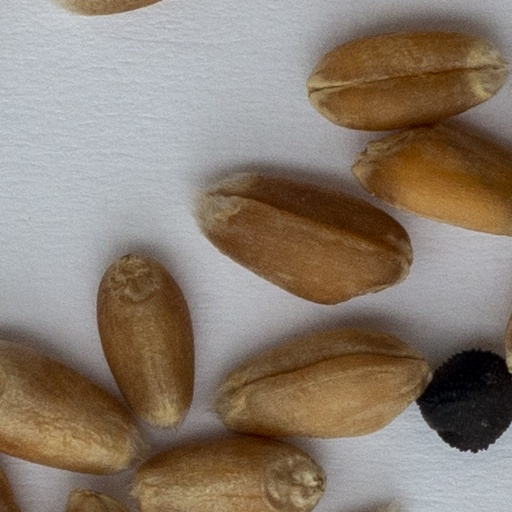Agrostemma-poly: (415, 340, 511, 454)
